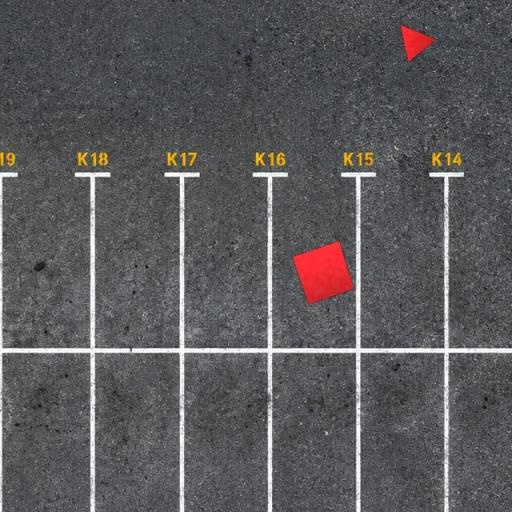RED_SQUARE: (292, 240, 354, 306)
